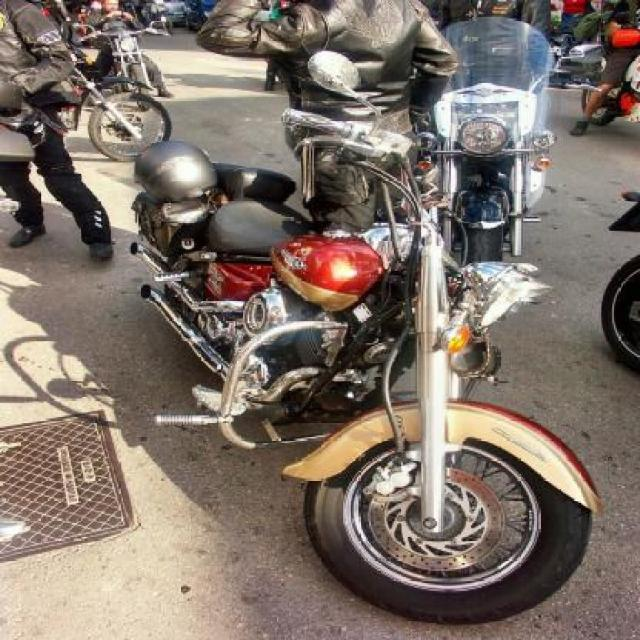bus: (121, 88, 601, 626), (412, 16, 606, 269), (61, 23, 170, 162), (72, 19, 170, 113), (601, 186, 639, 369), (580, 10, 640, 125), (0, 80, 35, 216), (137, 0, 174, 34), (116, 0, 136, 28)
